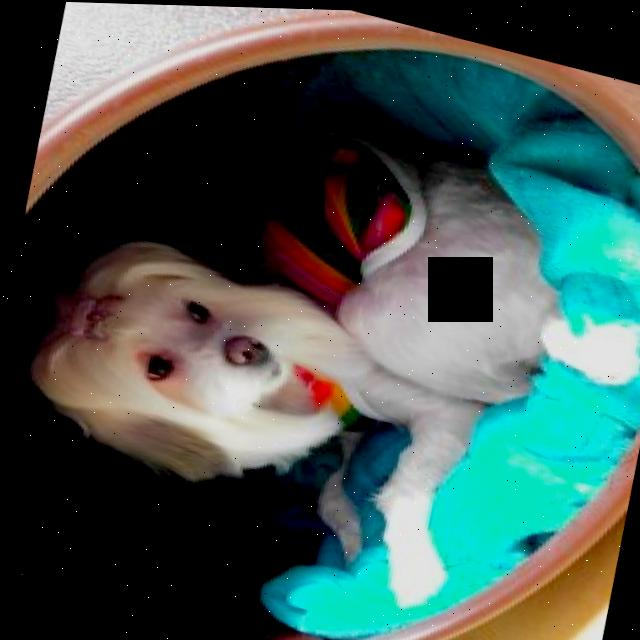cloth: (250, 133, 429, 312), (296, 365, 368, 427)
